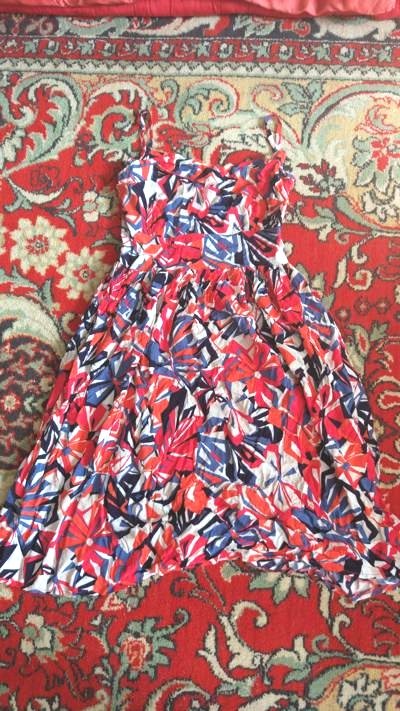Dress: (40, 101, 390, 635)
